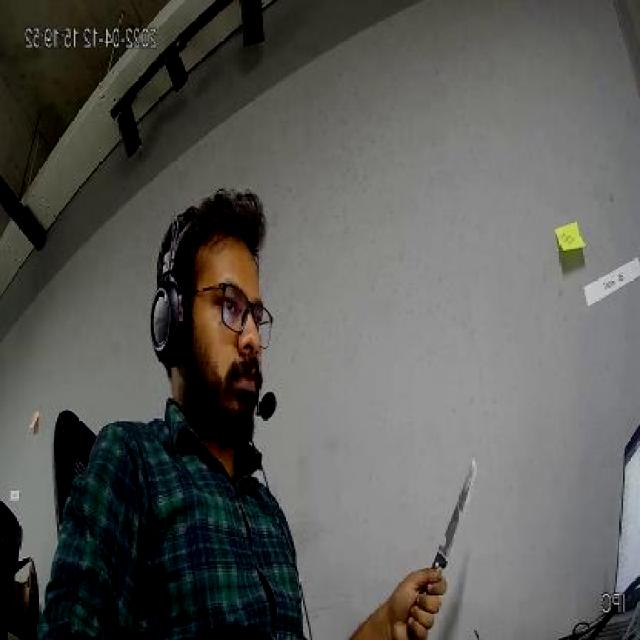knife: (422, 457, 480, 588)
